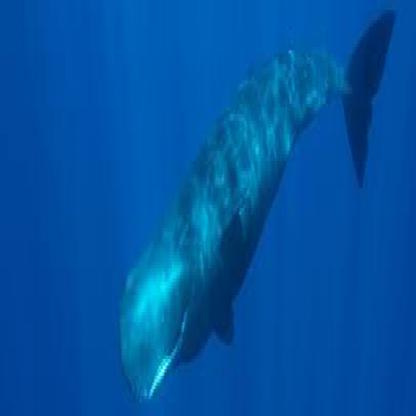sperm_whale: (101, 10, 402, 413)
